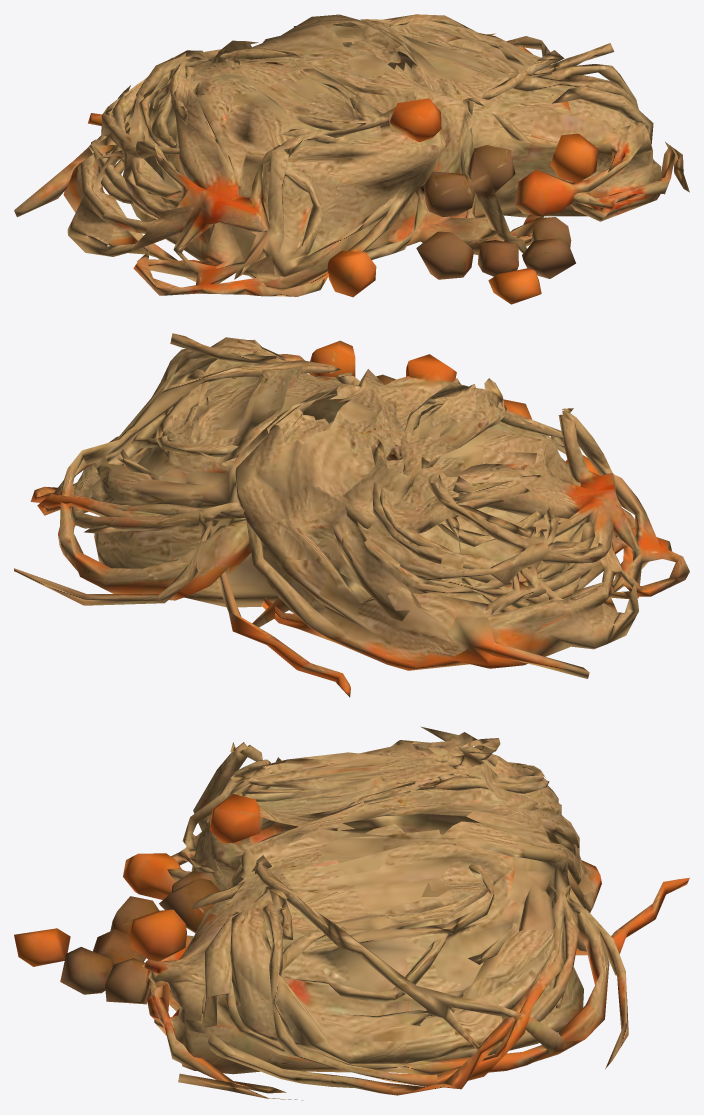
The model's file is fishing_net.glb.
3 renders of one model, top to bottom at view 1: azimuth 30°, elevation 25°; view 2: azimuth 150°, elevation 25°; view 3: azimuth 270°, elevation 25°, orthographic. The views are drawn at different scales.
Parts seen in each view (by area): view 1: 0; view 2: 0; view 3: 0.
Boxes of the visible parts, bbox=[...] form: 0: bbox=[14, 14, 689, 304]; 0: bbox=[14, 333, 689, 697]; 0: bbox=[14, 726, 689, 1100].
Bounding box in the file's own units: 1.89 × 0.4696 × 1.77.
1 material, 1 textured.
